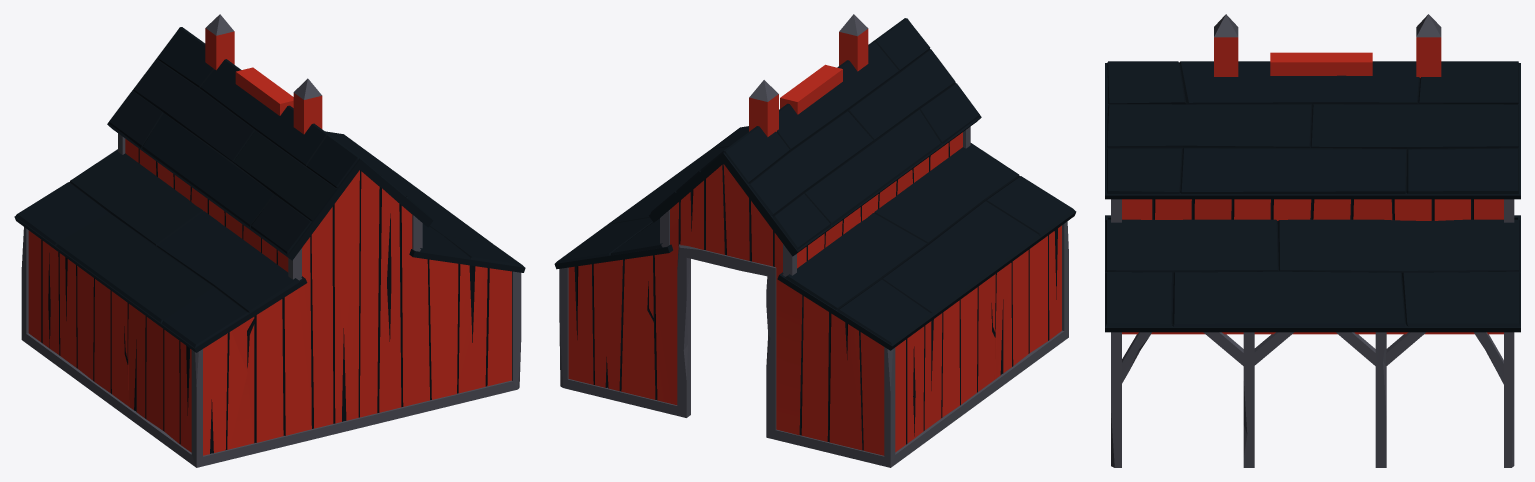
Rendered from Shed_3 1.fbx.
3 views of the same model, side by side, from view 1: azimuth 30°, elevation 25°; view 2: azimuth 150°, elevation 25°; view 3: azimuth 270°, elevation 25° (orthographic). The views are drawn at different scales.
Parts seen in each view (by area): view 1: Shed_3_1; view 2: Shed_3_1; view 3: Shed_3_1.
Part boxes in pixels (x1=…): Shed_3_1: x1=14, y1=14, x2=525, y2=467; Shed_3_1: x1=554, y1=14, x2=1076, y2=467; Shed_3_1: x1=1105, y1=14, x2=1520, y2=467.
Bounding box in the file's own units: 262 × 238 × 247.
